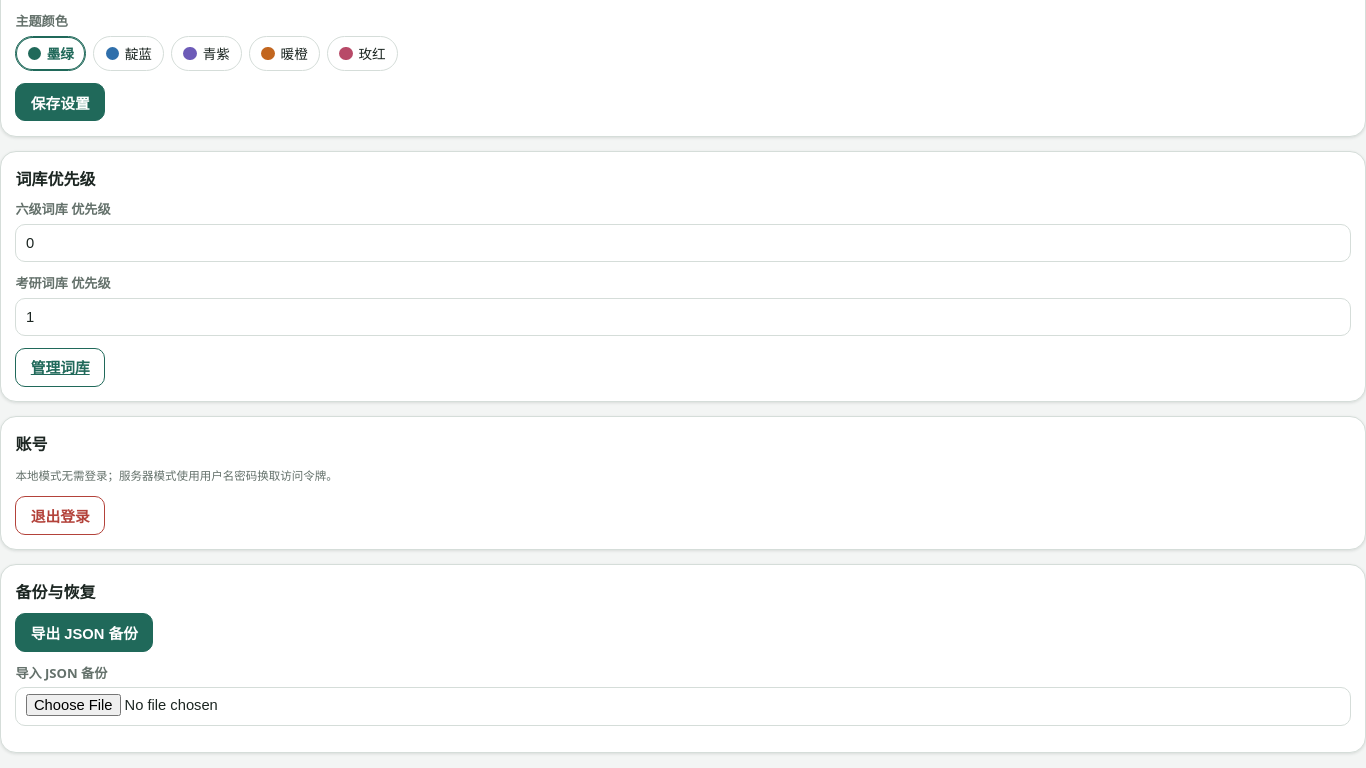
设置页 › 已有 Token 时显示退出登录
(page scrolled)
Click the button "退出登录" at [60, 515], box [15, 496, 105, 534]
(page scrolled)
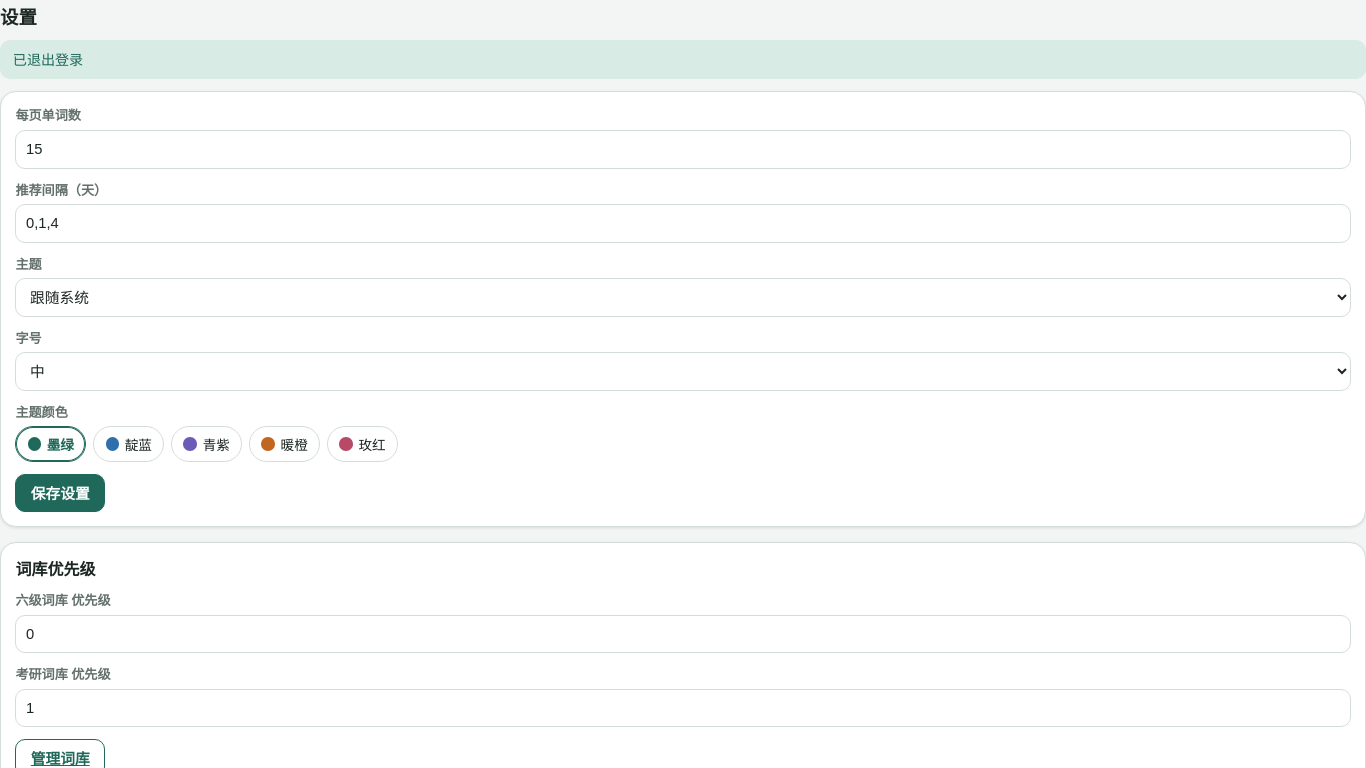
Result: the text "已退出登录" is shown at [0, 40, 1365, 79]
